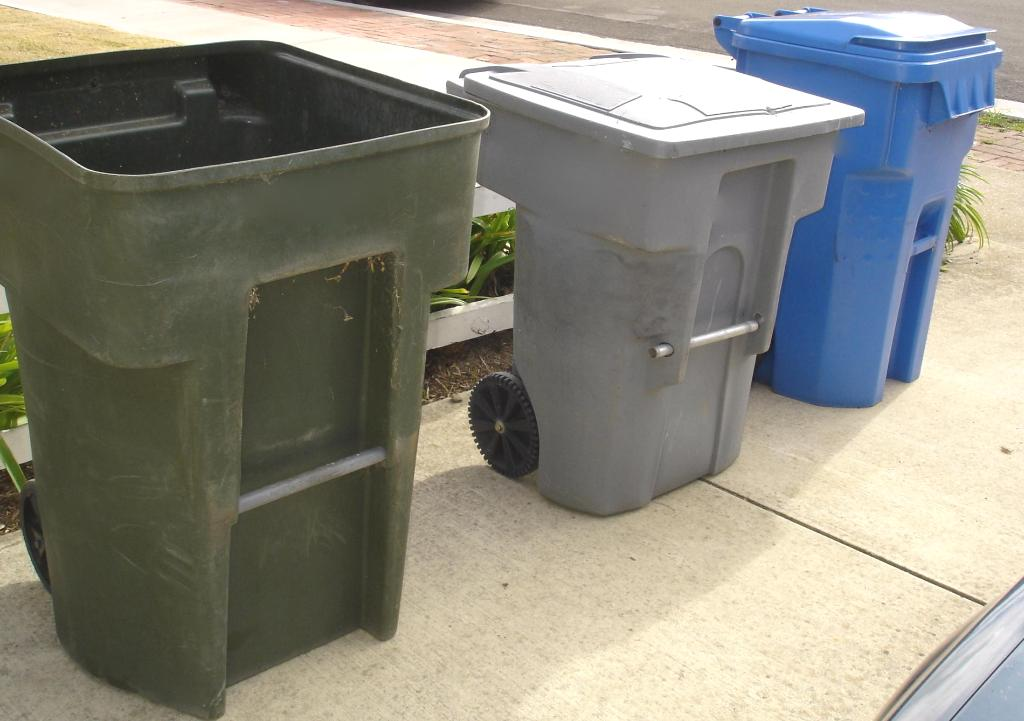dustbin: (0, 32, 491, 712), (466, 47, 847, 503)
